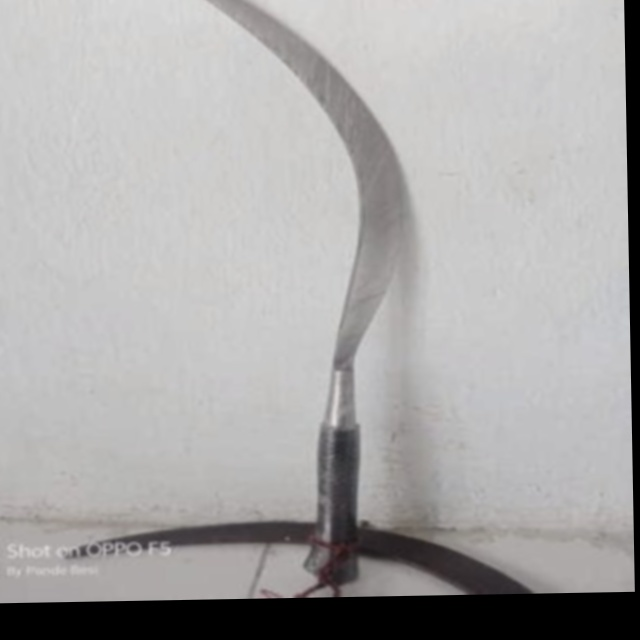Sharp-Object: (117, 0, 426, 574)
